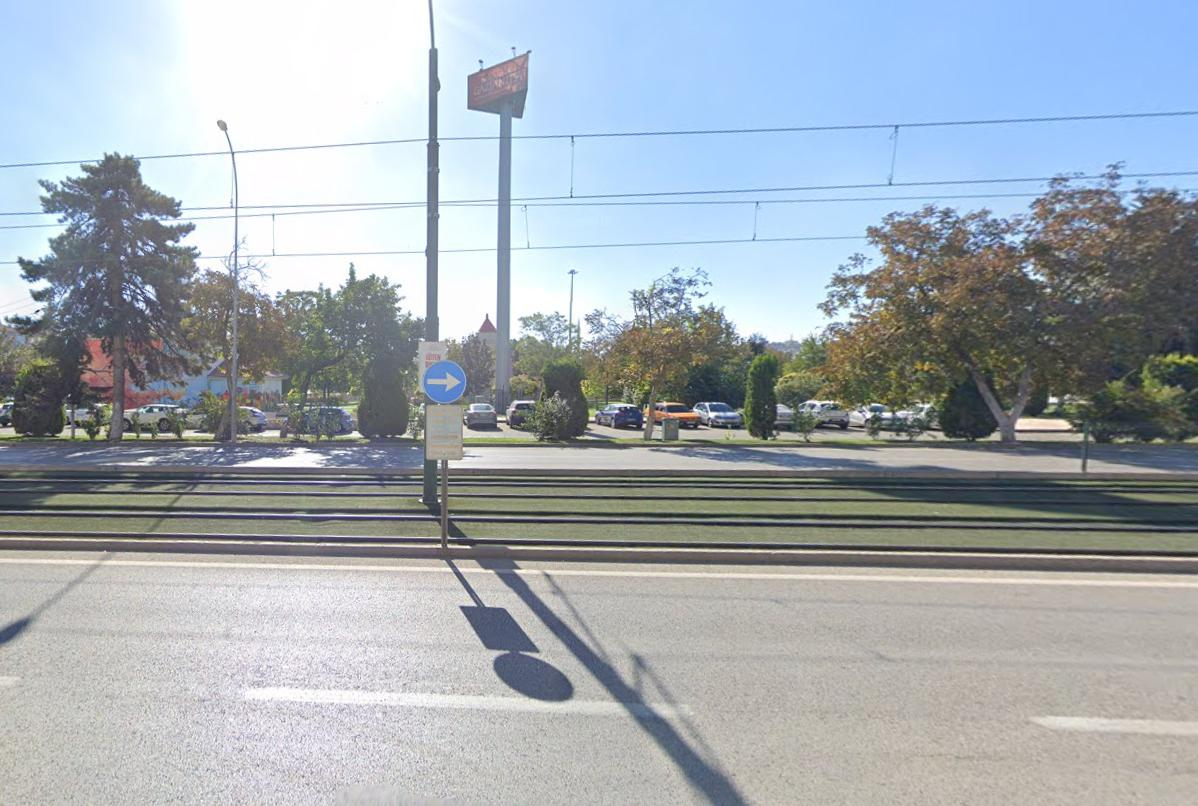turnright: (425, 363, 465, 401)
